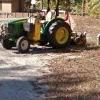Tractor: (6, 5, 86, 62)
